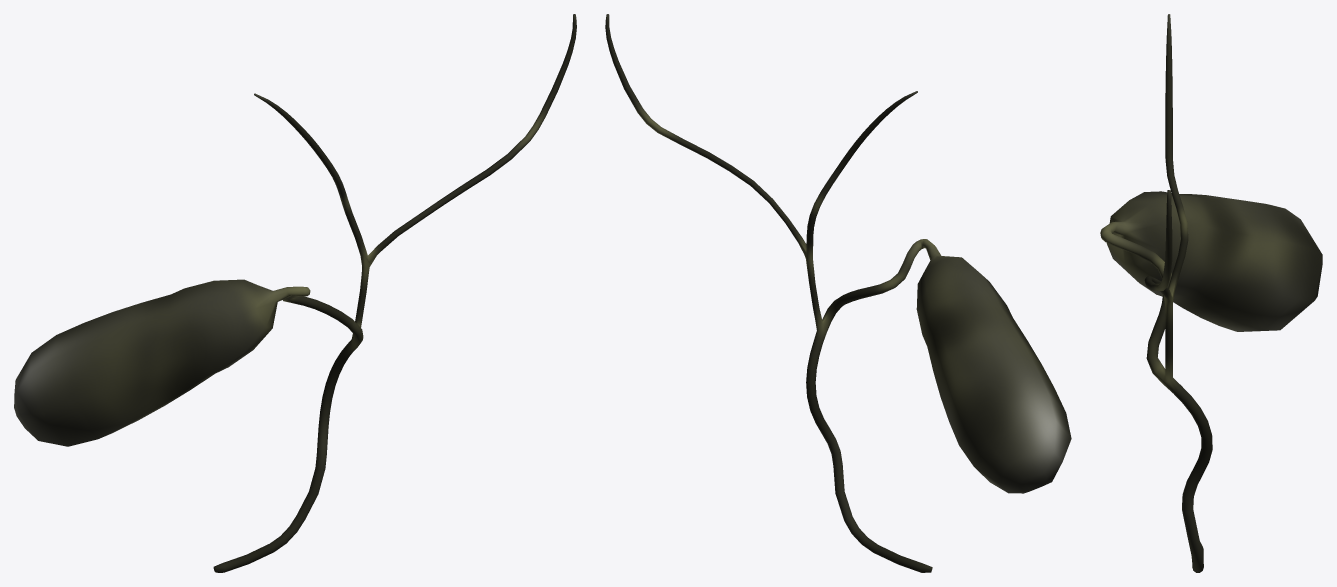
Rendered from Gallbladder.FBX.
3 views of the same model, side by side, from view 1: azimuth 30°, elevation 25°; view 2: azimuth 150°, elevation 25°; view 3: azimuth 270°, elevation 25° (orthographic). The views are drawn at different scales.
Visible parts, largest first — view 1: Gallbladder; view 2: Gallbladder; view 3: Gallbladder.
Boxes of the visible parts, x1,y1,x2,y2 form: Gallbladder: (14,14,576,572); Gallbladder: (605,14,1071,572); Gallbladder: (1100,14,1322,572).
Size of the model in its own units: 48.6 by 15.96 by 43.73.
